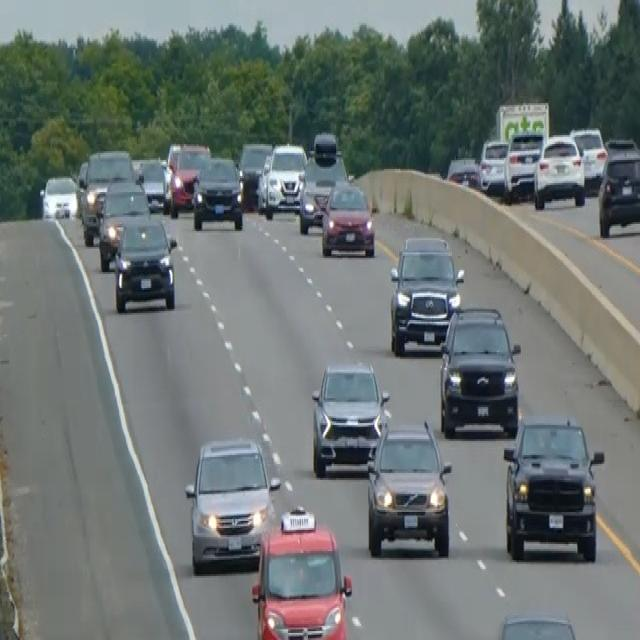car: (250, 503, 352, 638), (183, 434, 280, 572), (365, 416, 452, 558), (438, 304, 521, 437), (310, 358, 390, 477), (388, 233, 464, 355), (113, 213, 177, 313), (79, 148, 135, 244), (96, 178, 150, 270), (320, 178, 375, 258), (533, 132, 586, 210), (192, 153, 244, 231), (597, 150, 639, 236), (264, 140, 307, 217), (168, 141, 210, 215), (502, 128, 544, 201), (489, 612, 584, 638), (237, 139, 272, 208), (569, 125, 607, 187), (136, 156, 170, 212), (39, 172, 78, 220), (477, 137, 508, 194), (446, 155, 480, 190), (603, 135, 639, 157), (75, 158, 88, 215), (165, 140, 181, 172)
jeep: (501, 411, 605, 564)
